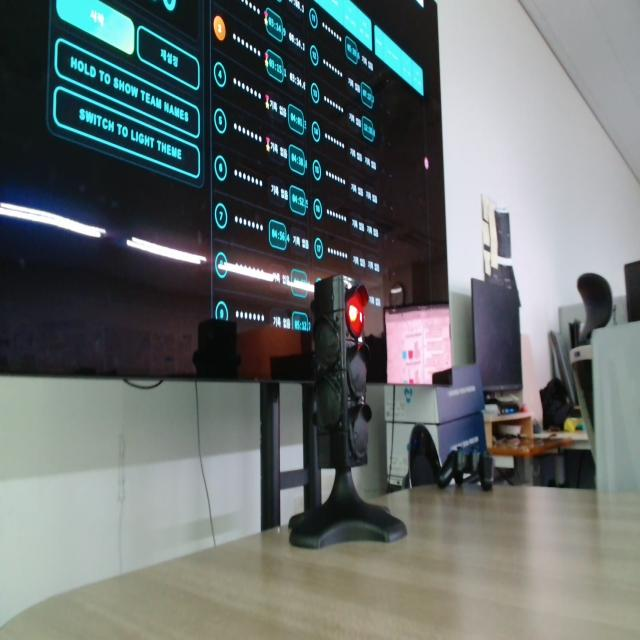red_light: (347, 286, 368, 337)
